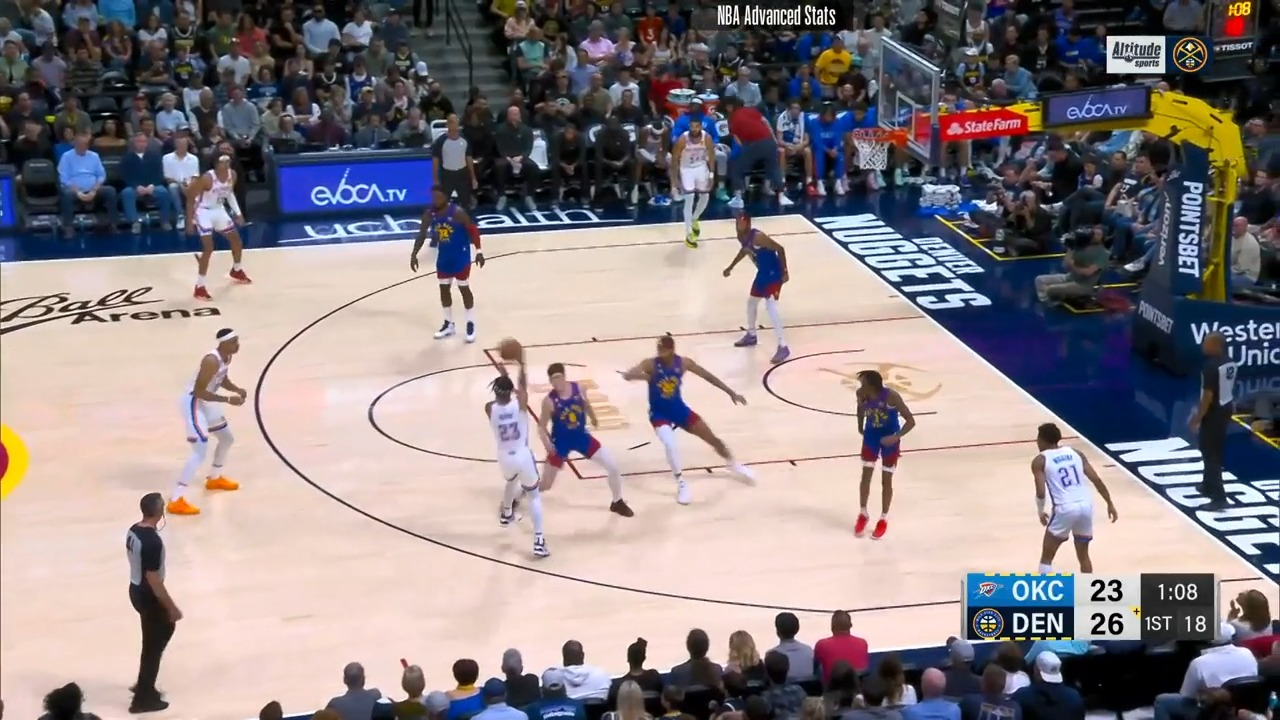net: (849, 122, 912, 176)
player: (617, 327, 758, 504), (173, 324, 264, 520), (531, 362, 635, 524), (477, 346, 550, 562), (1030, 421, 1126, 576), (841, 368, 919, 546), (410, 180, 486, 344), (718, 212, 795, 367), (187, 153, 253, 304), (672, 117, 727, 260)
referee: (115, 494, 194, 720), (1185, 330, 1237, 514), (427, 112, 474, 238)
